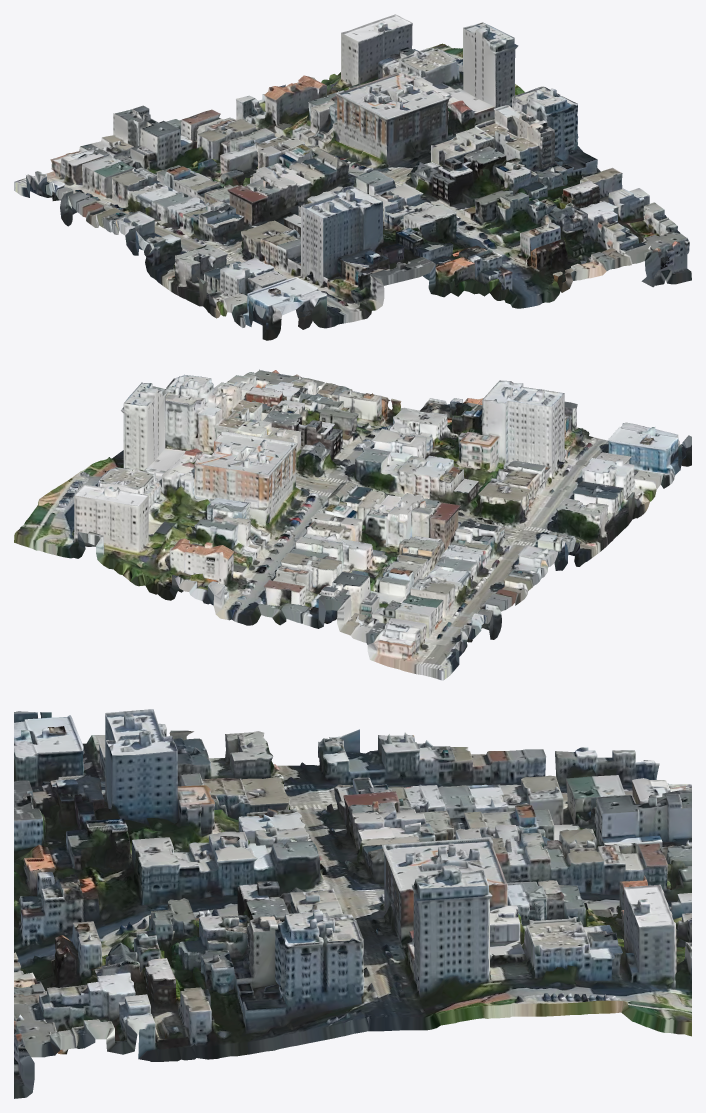
File: z17-20964-50650-h0-yup-uvflip-v3-world.glb
The picture shows the model from 3 angles, top to bottom: view 1: azimuth 30°, elevation 25°; view 2: azimuth 150°, elevation 25°; view 3: azimuth 270°, elevation 25°; orthographic projection. The views are drawn at different scales.
Size of the model in its own units: 242 by 78.08 by 243.
1 material, 1 textured.
